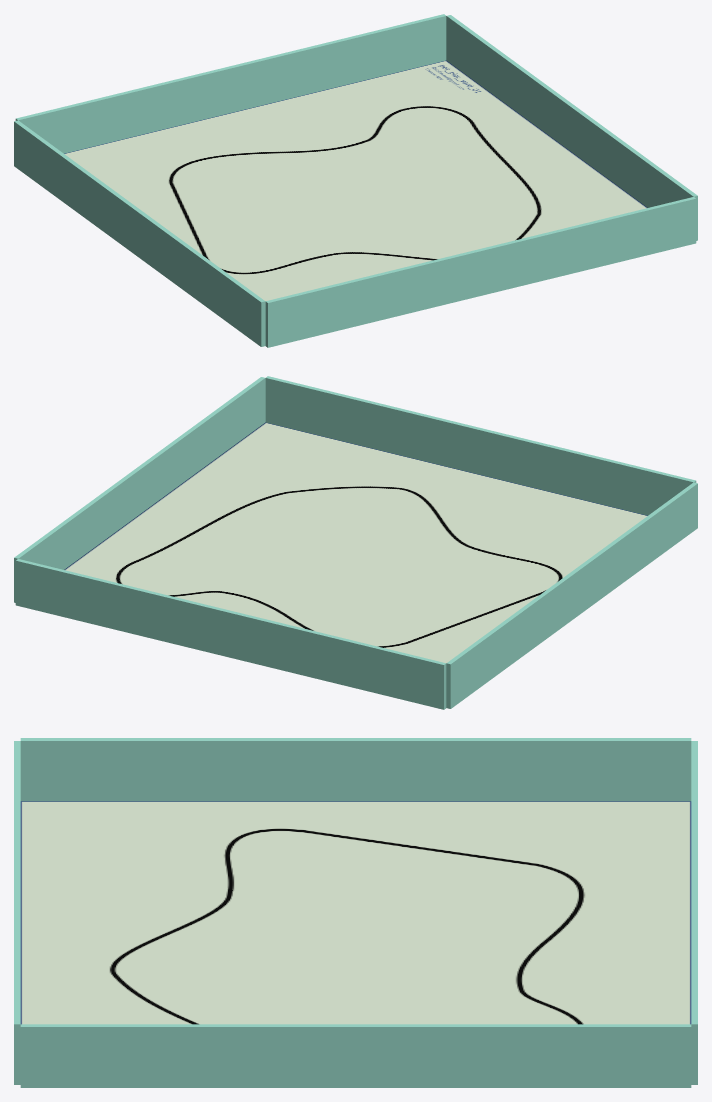
Rendered from pet_play_yard_01.dae.
3 views of the same model, one above another, from view 1: azimuth 30°, elevation 25°; view 2: azimuth 150°, elevation 25°; view 3: azimuth 270°, elevation 25° (orthographic). The views are drawn at different scales.
Parts seen in each view (by area): view 1: Plane, wall_back.001, wall_back, wall_back.003, wall_back.002; view 2: Plane, wall_back, wall_back.001, wall_back.003, wall_back.002; view 3: Plane, wall_back.002, wall_back.003, wall_back.001, wall_back.
Boxes of the visible parts, left/top/right/bottom form: Plane: left=64, top=60, right=647, bottom=301; wall_back.001: left=265, top=197, right=696, bottom=347; wall_back: left=15, top=14, right=446, bottom=153; wall_back.003: left=14, top=120, right=265, bottom=346; wall_back.002: left=446, top=15, right=697, bottom=240; Plane: left=64, top=422, right=647, bottom=663; wall_back: left=15, top=559, right=446, bottom=709; wall_back.001: left=265, top=376, right=696, bottom=515; wall_back.003: left=446, top=482, right=697, bottom=708; wall_back.002: left=14, top=377, right=265, bottom=602; Plane: left=20, top=801, right=691, bottom=1024; wall_back.002: left=20, top=1024, right=691, bottom=1087; wall_back.003: left=20, top=738, right=691, bottom=801; wall_back.001: left=14, top=741, right=20, bottom=1084; wall_back: left=691, top=741, right=697, bottom=1084.
Size of the model in its own units: 2.04 by 2.04 by 0.2.
Materials: 2 (1 with a texture image).
